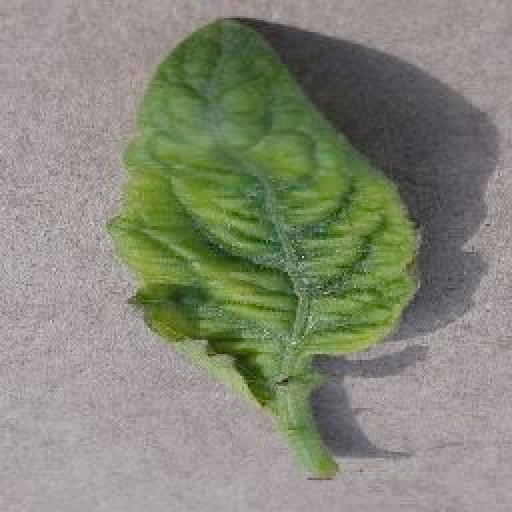disease_tomato: (108, 14, 424, 406)
